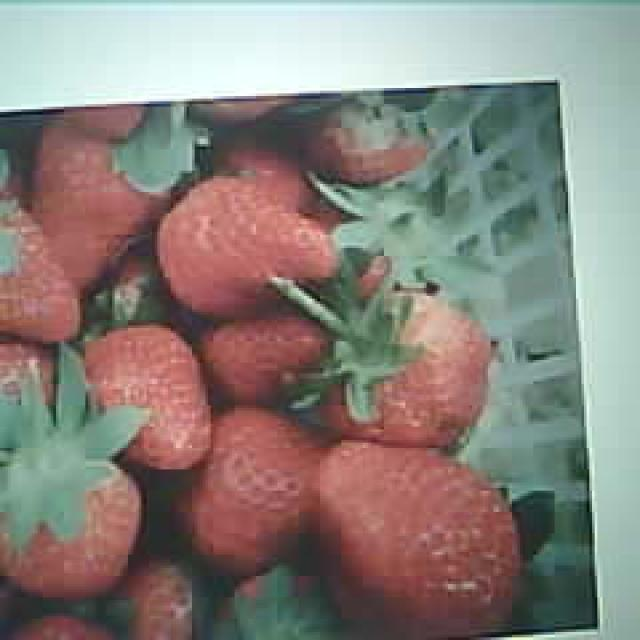ripe: (320, 439, 520, 636), (160, 182, 333, 312), (82, 325, 206, 469)
